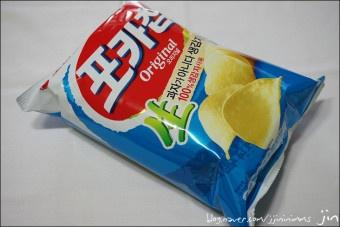snack: (16, 0, 325, 227)
